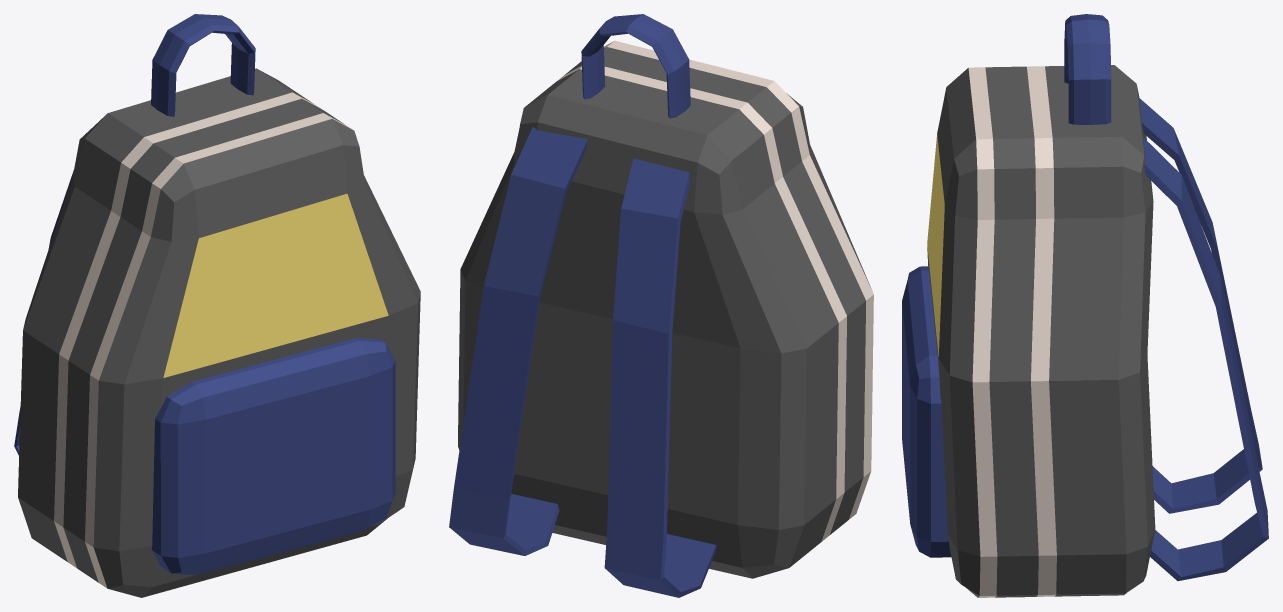
The model's file is Backpack.fbx.
The picture shows the model from 3 angles, left to right: view 1: azimuth 30°, elevation 25°; view 2: azimuth 150°, elevation 25°; view 3: azimuth 270°, elevation 25°; orthographic projection. The views are drawn at different scales.
Parts seen in each view (by area): view 1: Backpack; view 2: Backpack; view 3: Backpack.
Boxes of the visible parts, x1=… form: Backpack: x1=14, y1=14, x2=420, y2=597; Backpack: x1=449, y1=14, x2=873, y2=597; Backpack: x1=902, y1=14, x2=1268, y2=597.
Size of the model in its own units: 49.44 by 45.15 by 71.23.
